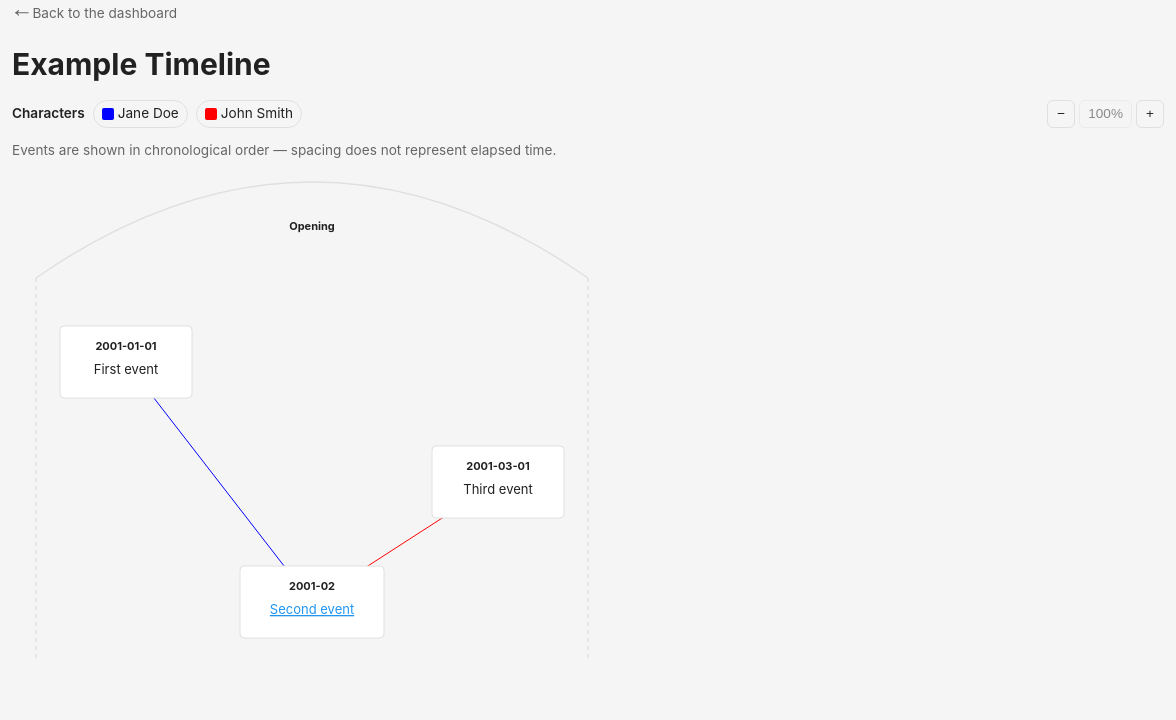
Test: TimelineView.vue › zoom › scales the SVG, not its contents, when zoomed in
Click the button named "Zoom in": {"x": 1150, "y": 114} top-left (1136, 100), bottom-right (1164, 128)
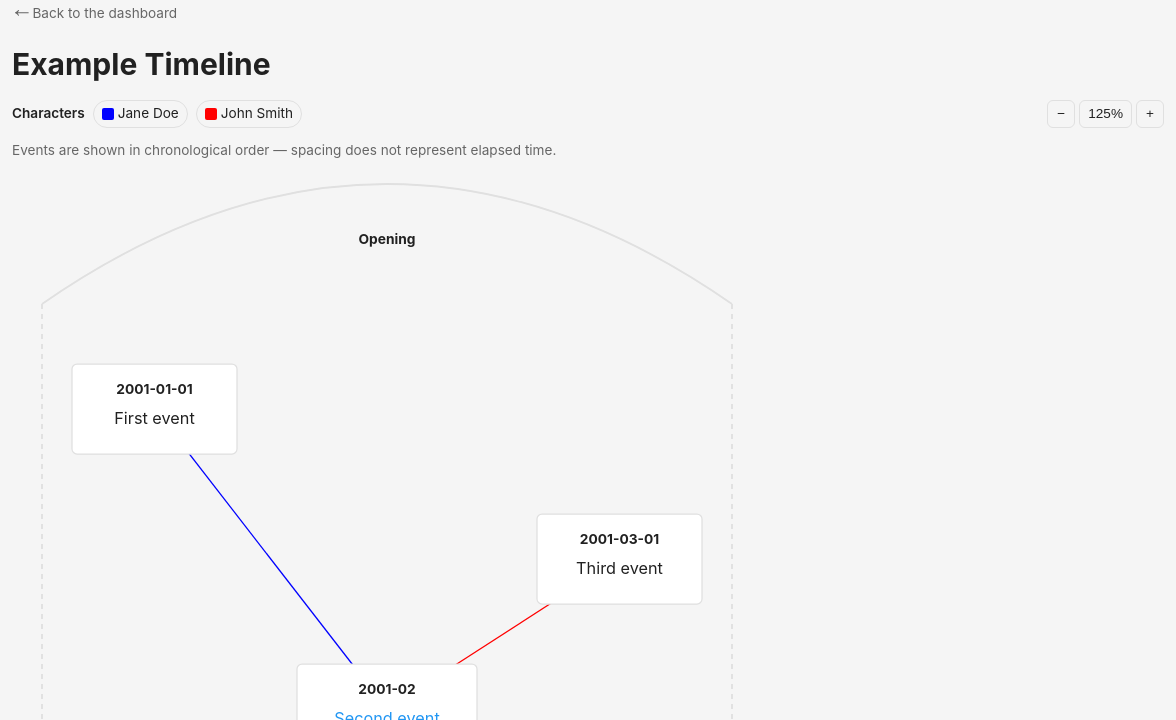
Now the button with class "zoom-level" reads "125%", box top-left (1079, 100), bottom-right (1132, 128)
